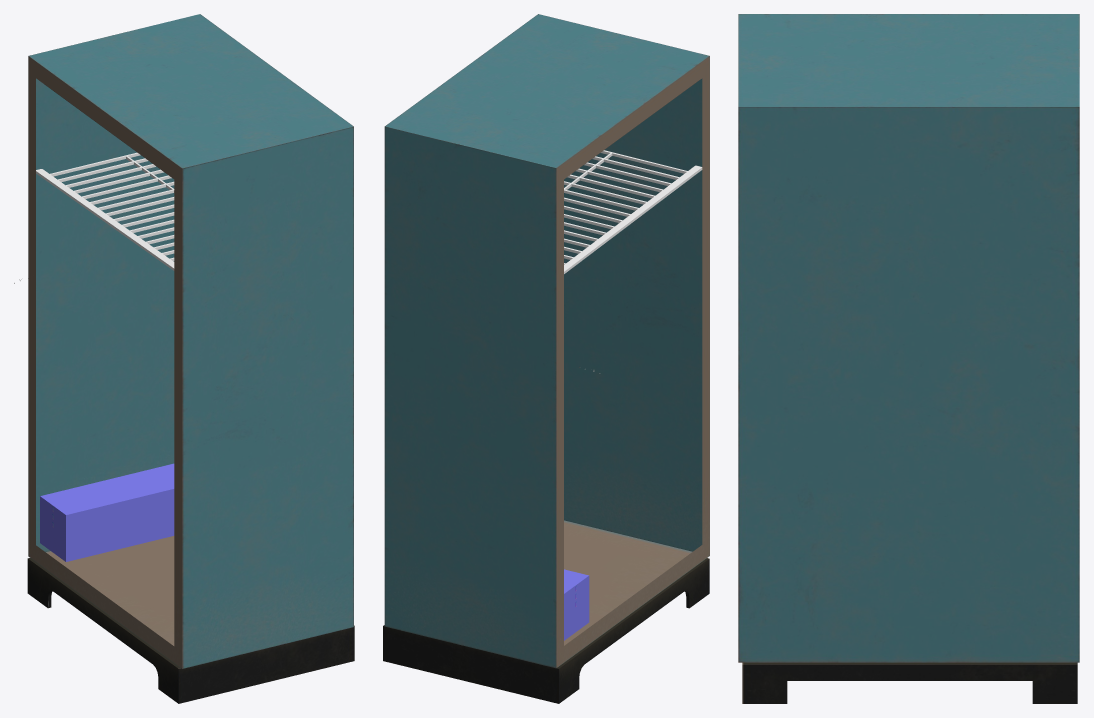
3 renders of one model, left to right at view 1: azimuth 30°, elevation 25°; view 2: azimuth 150°, elevation 25°; view 3: azimuth 270°, elevation 25°, orthographic. The views are drawn at different scales.
Parts seen in each view (by area): view 1: pCube211, square, Box033_Chrome_0.001; view 2: pCube211, Box033_Chrome_0.001, square; view 3: pCube211.
Part boxes in pixels (left/top/right/bottom): pCube211: left=14, top=14, right=354, bottom=703; square: left=40, top=463, right=174, bottom=561; Box033_Chrome_0.001: left=36, top=152, right=174, bottom=270; pCube211: left=383, top=14, right=709, bottom=703; Box033_Chrome_0.001: left=564, top=150, right=702, bottom=273; square: left=564, top=569, right=589, bottom=640; pCube211: left=738, top=14, right=1079, bottom=703.
Size of the model in its own units: 54.32 by 137 by 71.18.
3 materials, 2 textured.
